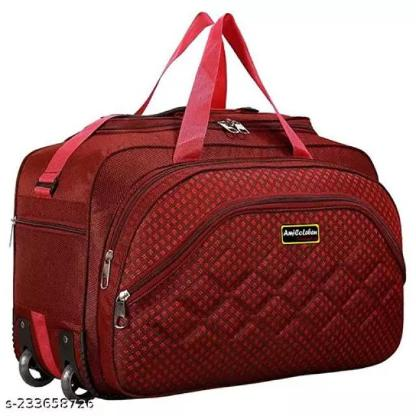bag: (8, 8, 416, 406)
